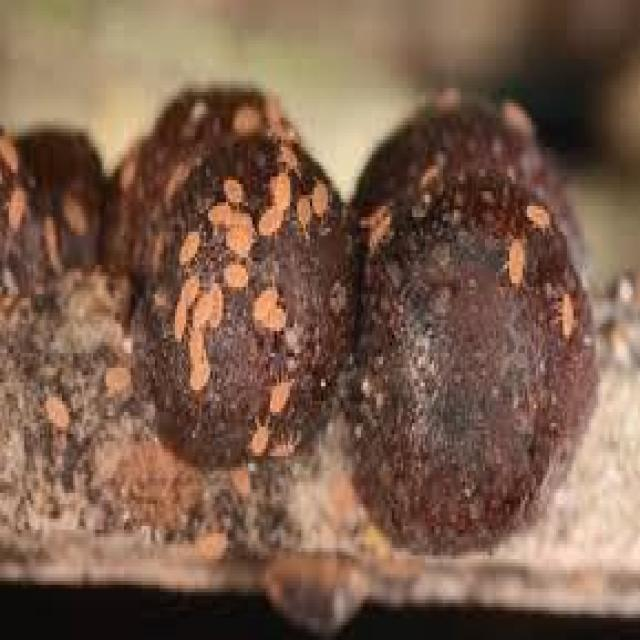BlackScale: (0, 81, 596, 585)
